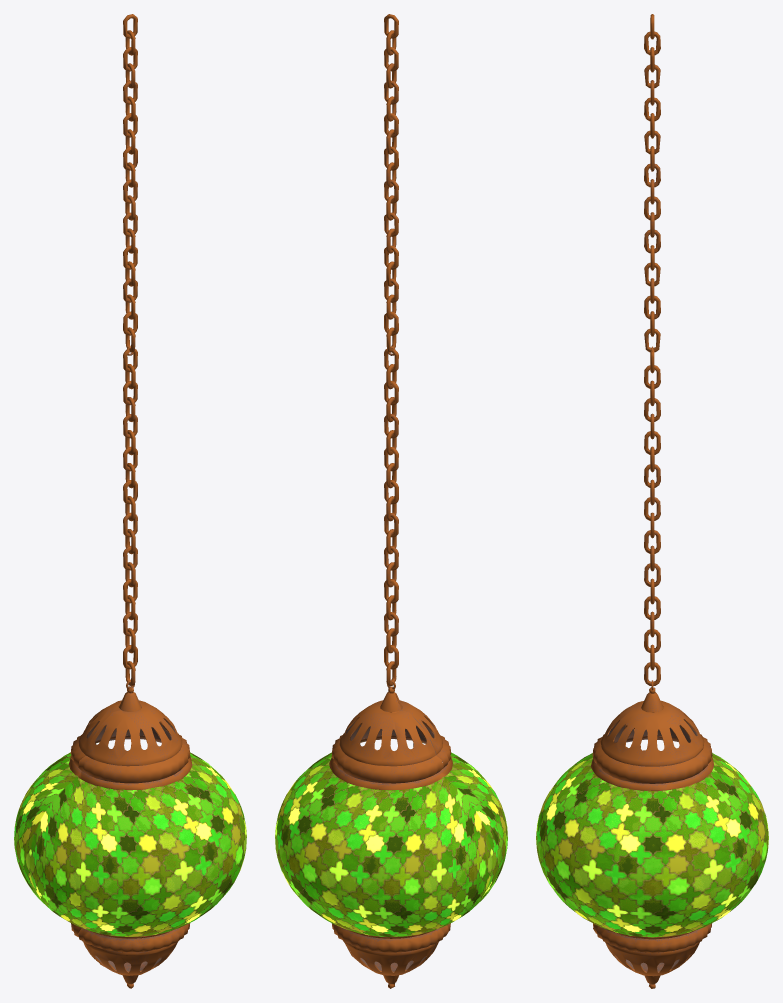
File: mdl_hub_chandelier.gltf
The picture shows the model from 3 angles, left to right: view 1: azimuth 30°, elevation 25°; view 2: azimuth 150°, elevation 25°; view 3: azimuth 270°, elevation 25°; orthographic projection.
Visible parts, largest first — view 1: 1 - Glass, 1 - Frames, 1 - Chain LP, 1 - Chain LP_bronze_0.001; view 2: 1 - Glass, 1 - Frames, 1 - Chain LP, 1 - Chain LP_bronze_0.001; view 3: 1 - Glass, 1 - Frames, 1 - Chain LP, 1 - Chain LP_bronze_0.001.
Part boxes in pixels (x1,y1,x2,y2): 1 - Glass: [14, 752, 246, 936]; 1 - Frames: [69, 686, 192, 988]; 1 - Chain LP: [123, 349, 137, 689]; 1 - Chain LP_bronze_0.001: [123, 14, 137, 355]; 1 - Glass: [275, 752, 507, 936]; 1 - Frames: [329, 686, 452, 988]; 1 - Chain LP: [384, 349, 398, 689]; 1 - Chain LP_bronze_0.001: [384, 14, 398, 355]; 1 - Glass: [536, 753, 768, 937]; 1 - Frames: [591, 687, 713, 988]; 1 - Chain LP: [644, 349, 660, 690]; 1 - Chain LP_bronze_0.001: [644, 14, 660, 352].
Bounding box in the file's own units: 1.94 × 8.97 × 1.94.
Materials: 3 (3 with a texture image).
